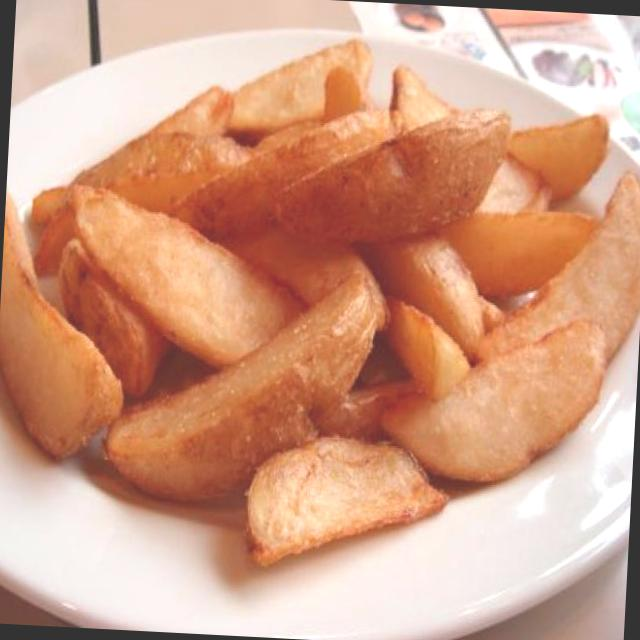French Fries: (0, 41, 640, 546)
